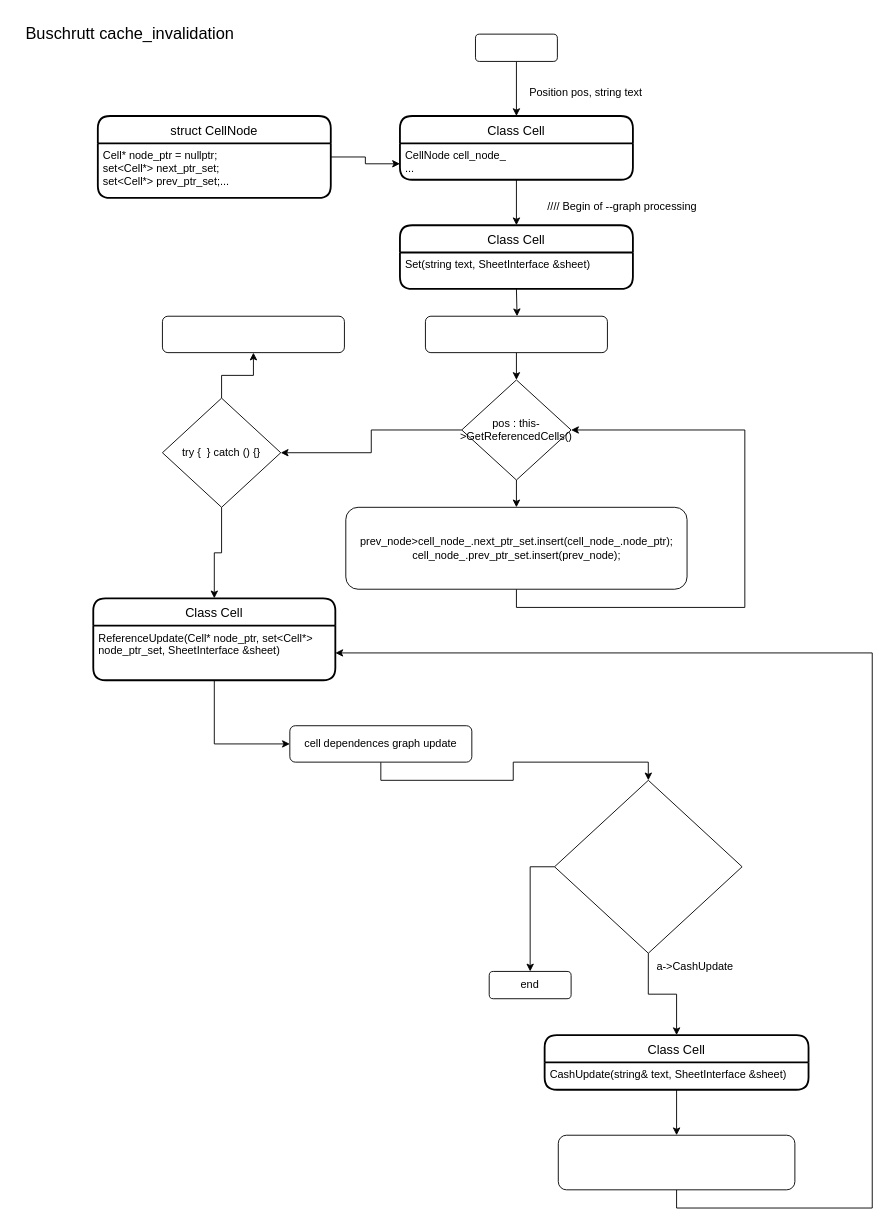
Some shapes in this 895 by 1231 pixel diagram are drawn without their labels. The centre of each missing label's shape, as x and y in pixels:
"begin" goes at [516,47].
"cell_node_.prev_ptr_set.clear();" goes at [516,334].
"CircularDependencyException" goes at [253,334].
"for (auto a : node_ptr->cell_node_.next_ptr_set)" goes at [648,866].
"impl_ = std::make_unique<FormulaImpl>(text.substr(1), sheet);" goes at [676,1162].
